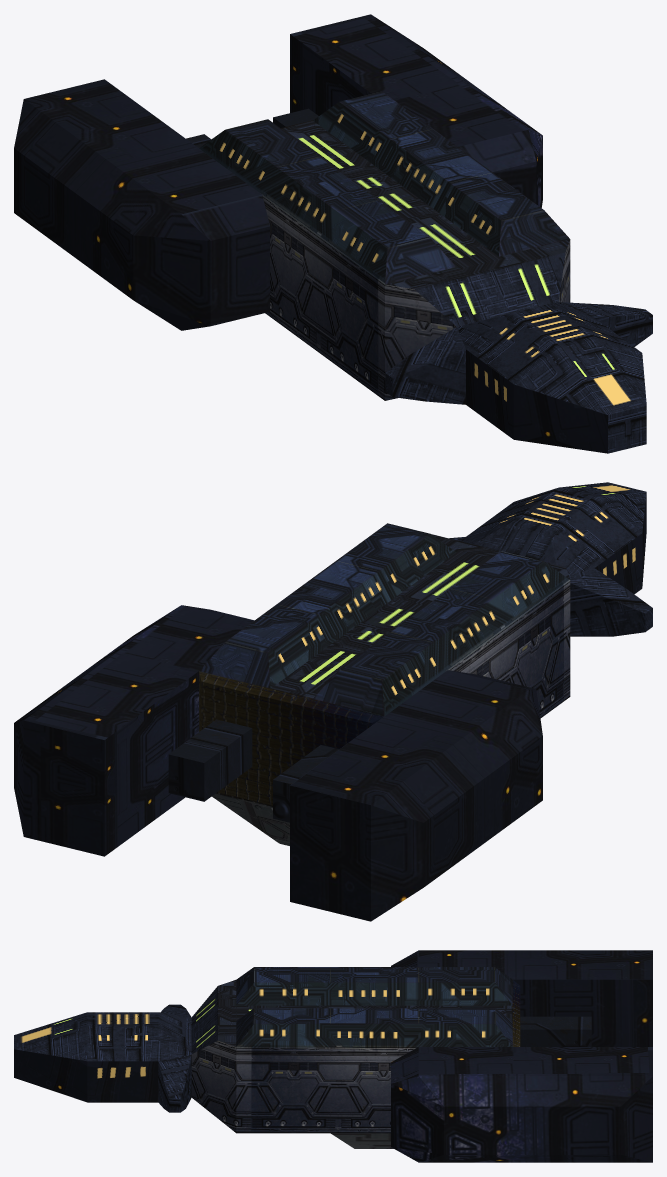
File: ship1.fbx
3 renders of one model, top to bottom at view 1: azimuth 30°, elevation 25°; view 2: azimuth 150°, elevation 25°; view 3: azimuth 270°, elevation 25°, orthographic. The views are drawn at different scales.
Parts seen in each view (by area): view 1: ship1_low:headusOBJexport; view 2: ship1_low:headusOBJexport; view 3: ship1_low:headusOBJexport.
Boxes of the visible parts, bbox=[...] form: ship1_low:headusOBJexport: bbox=[14, 14, 652, 453]; ship1_low:headusOBJexport: bbox=[14, 482, 652, 921]; ship1_low:headusOBJexport: bbox=[14, 950, 652, 1162].
Size of the model in its own units: 120 by 54.14 by 219.
1 material, 1 textured.
